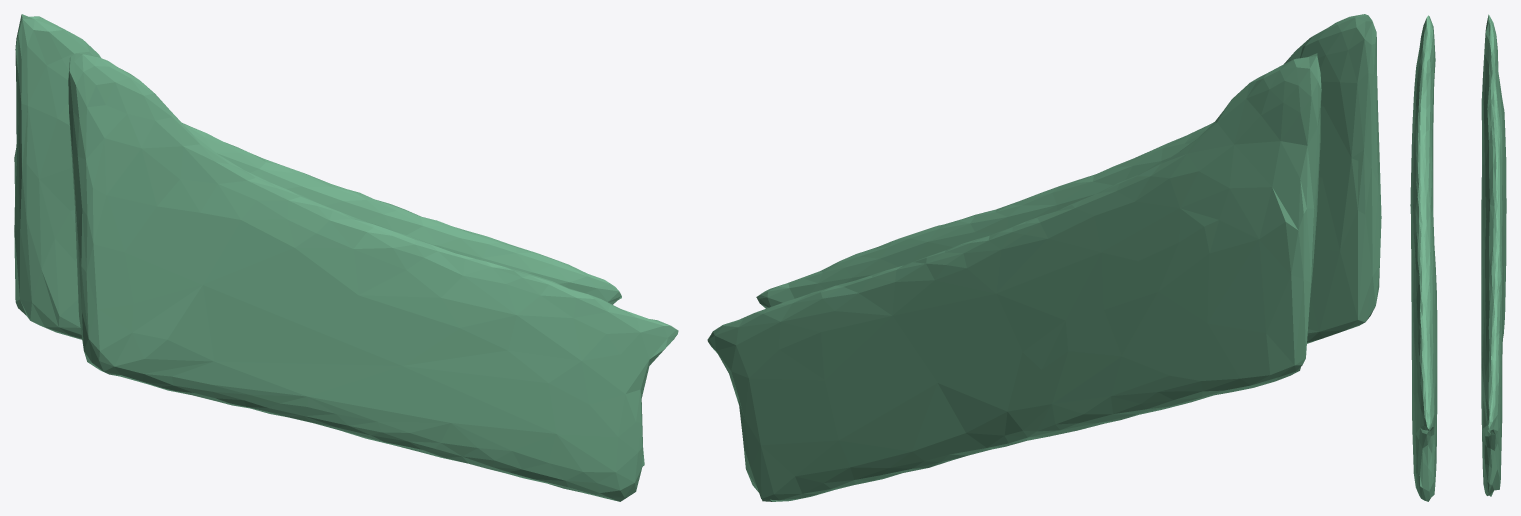
The picture shows the model from 3 angles, left to right: view 1: azimuth 30°, elevation 25°; view 2: azimuth 150°, elevation 25°; view 3: azimuth 270°, elevation 25°; orthographic projection. The views are drawn at different scales.
Visible parts, largest first — view 1: 296.obj; view 2: 296.obj; view 3: 296.obj.
Boxes of the visible parts, <box> form: 296.obj: <box>14,14,678,501</box>; 296.obj: <box>707,14,1381,501</box>; 296.obj: <box>1410,14,1506,501</box>.
Size of the model in its own units: 2338 by 2118 by 554.
